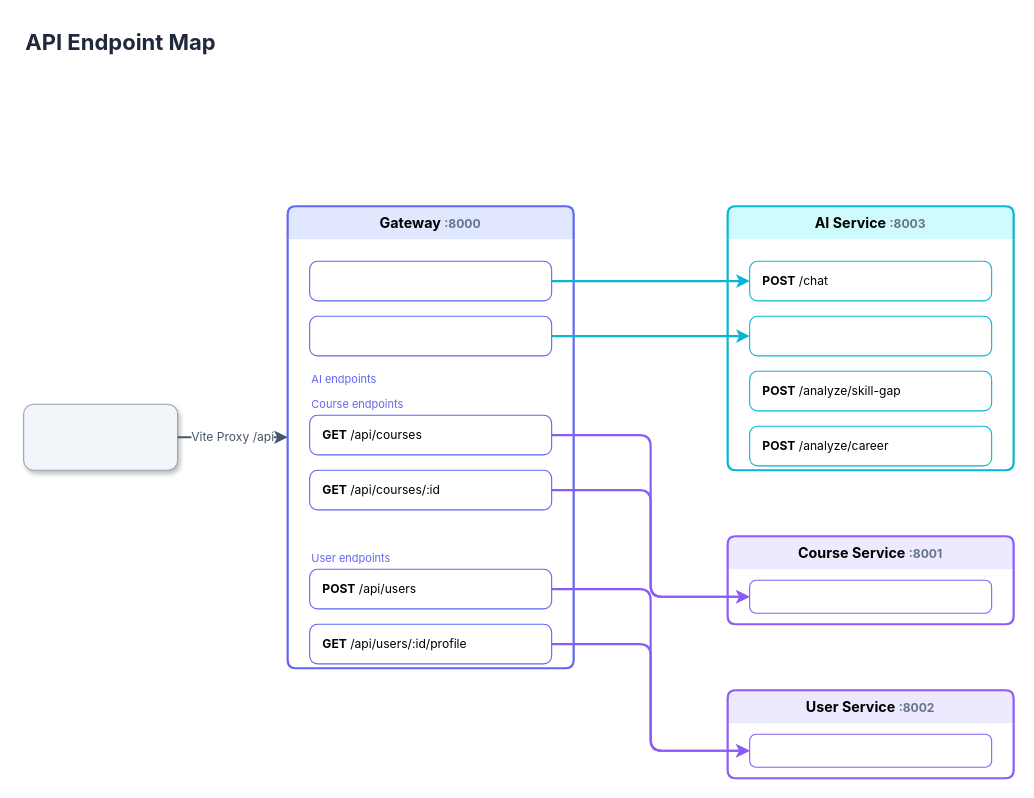
This 1034x798 diagram has some shape labels left out. The centre of each missing label's shape, as x and y in pixels:
"Browser :5173" goes at (101,438).
"CRUD + text search + filters" goes at (870,596).
"POST /analyze" goes at (870,335).
"POST /api/analyze" goes at (430,335).
"POST /api/chat" goes at (430,280).
"Profile CRUD + preferences" goes at (870,750).
